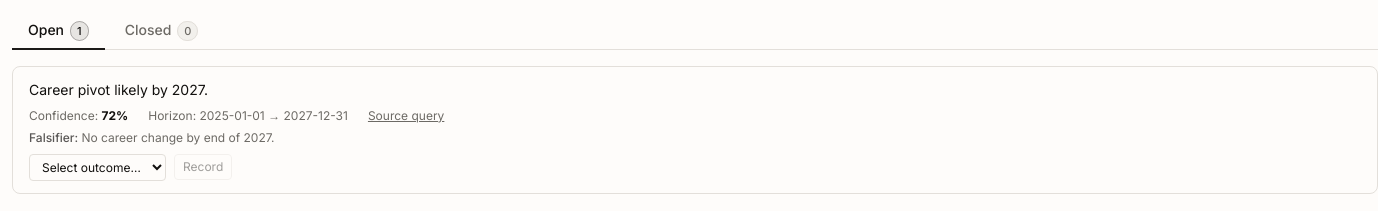
Test: PredictionLedgerClient › enables Record button when outcome selected
Select "confirmed" in the dropdown named "Select outcome". click: (98, 167)
box: top-left (29, 154), bottom-right (166, 181)
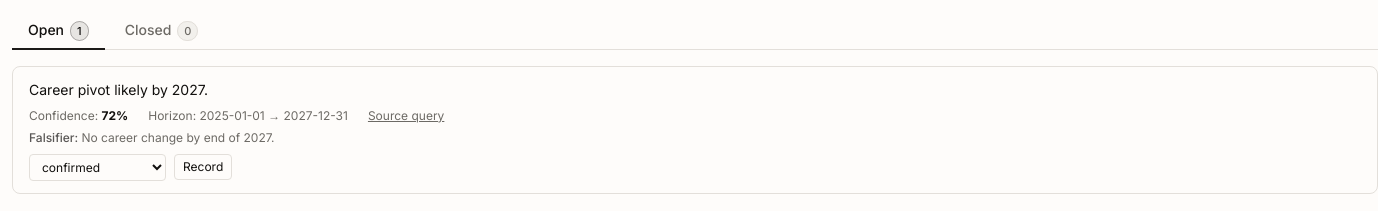
expect the button "Record" is enabled: met, box top-left (174, 154), bottom-right (232, 180)
